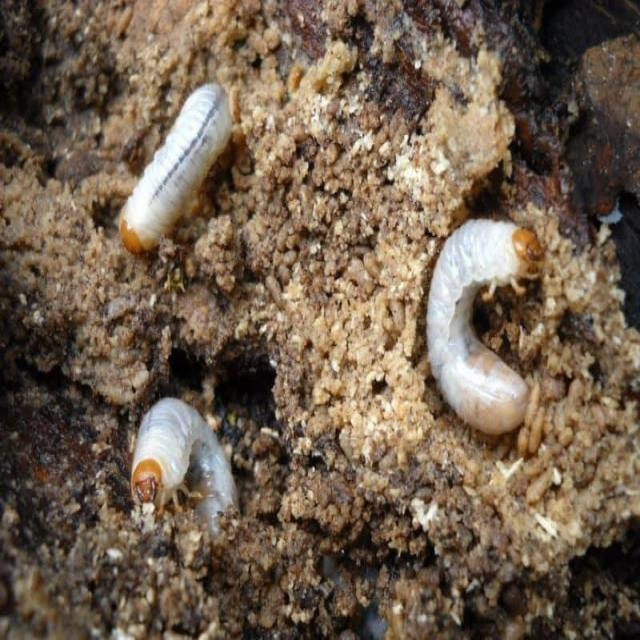grub: (418, 207, 558, 444), (115, 68, 242, 265), (135, 392, 247, 556)
